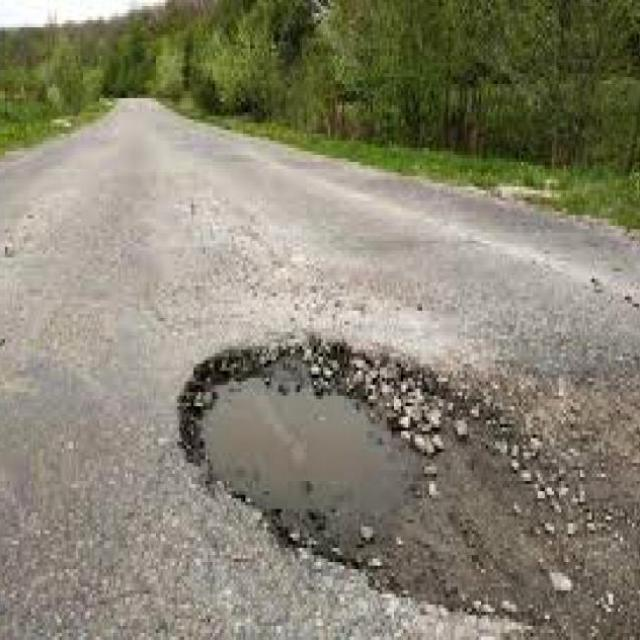Pathole: (179, 343, 488, 605)
